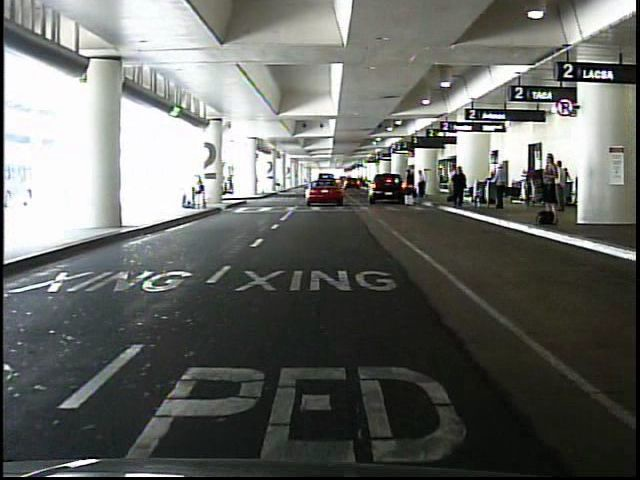person: (540, 152, 563, 213), (452, 167, 468, 210), (192, 173, 209, 213), (495, 164, 508, 211), (556, 162, 568, 212), (405, 168, 417, 208), (452, 165, 463, 204), (418, 169, 428, 199)
